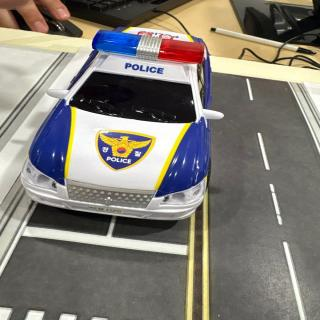Police_car: (21, 27, 223, 220)
